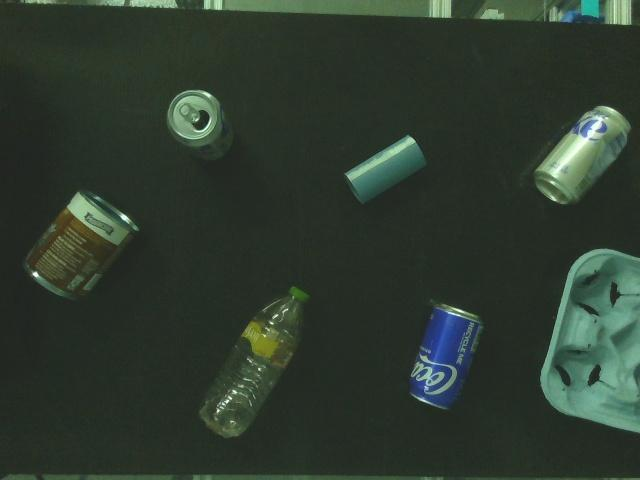cardboard: (537, 244, 640, 436), (340, 129, 432, 209)
metal: (17, 186, 146, 310), (528, 101, 636, 212), (403, 294, 488, 416), (162, 85, 244, 169)
plastic: (195, 282, 317, 445)
